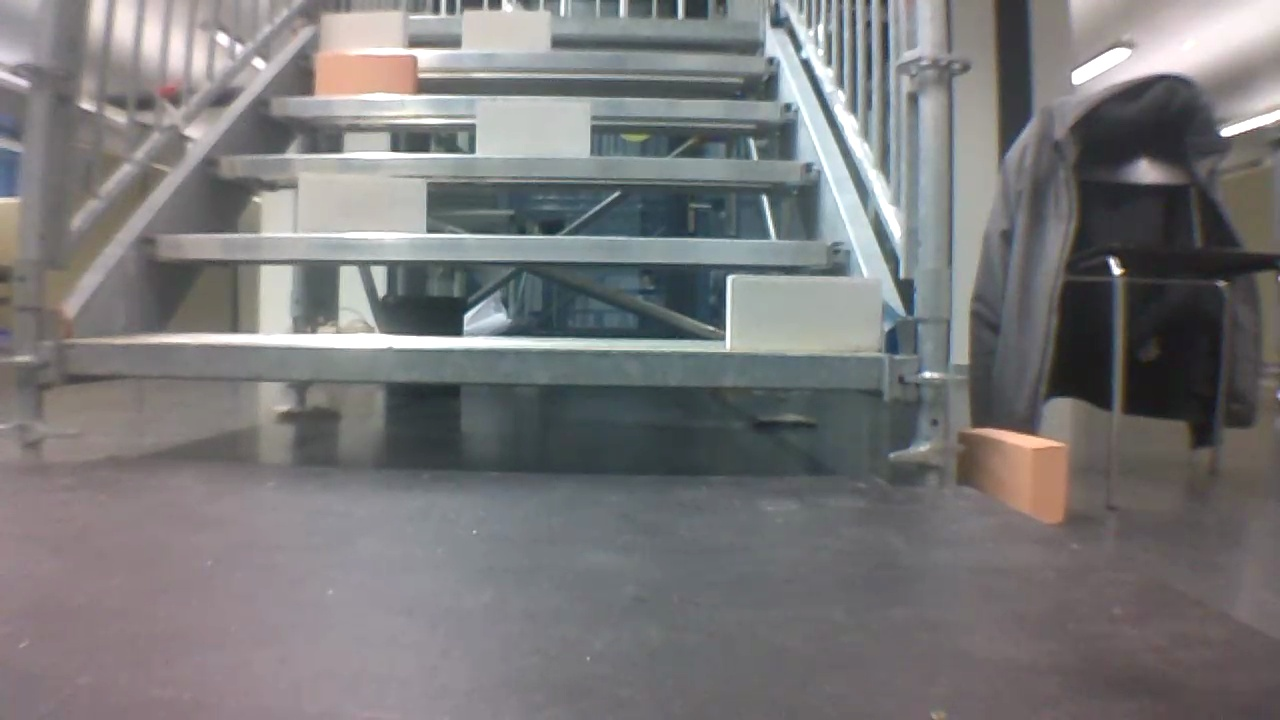brick: (727, 277, 881, 350), (299, 174, 426, 234), (478, 101, 590, 154), (318, 55, 415, 95), (462, 11, 549, 49), (322, 12, 406, 47)
edge: (63, 343, 881, 386), (144, 233, 856, 264), (207, 155, 817, 180), (262, 97, 798, 123), (304, 48, 781, 73), (324, 14, 762, 38)
stairs: (20, 4, 955, 486)
steps: (57, 8, 896, 399)
